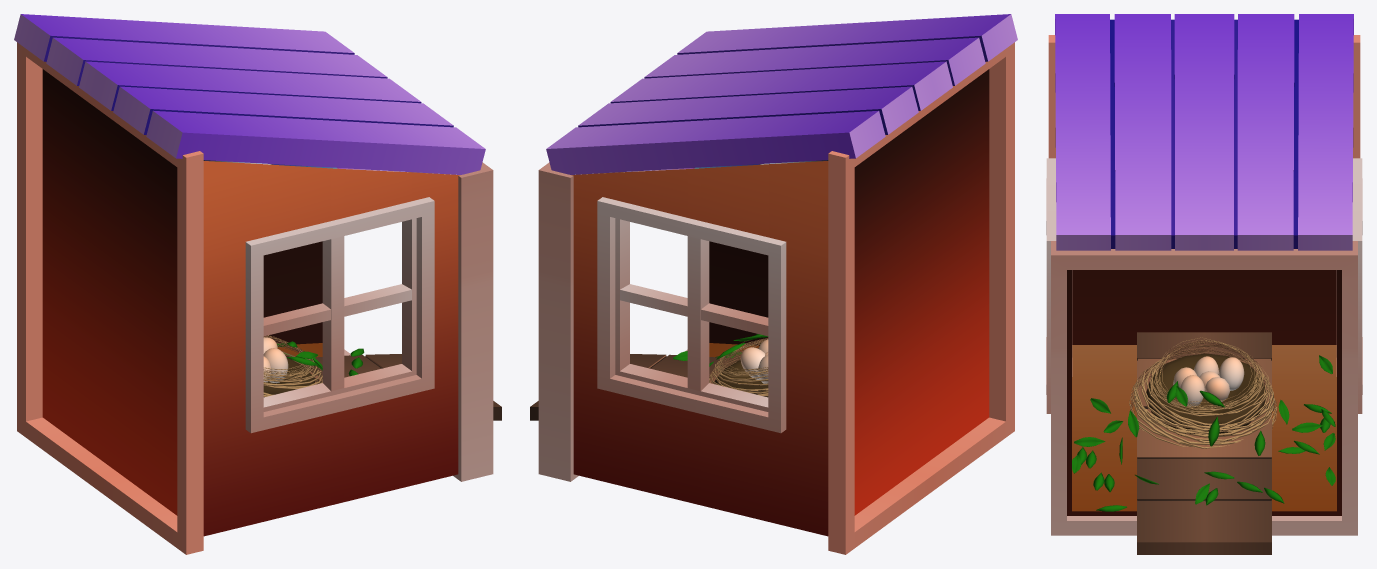
File: Destination.fbx
3 views of the same model, side by side, from view 1: azimuth 30°, elevation 25°; view 2: azimuth 150°, elevation 25°; view 3: azimuth 270°, elevation 25° (orthographic). The views are drawn at different scales.
Parts seen in each view (by area): view 1: FinshPoint, Nest; view 2: FinshPoint, Nest; view 3: FinshPoint, Nest.
Boxes of the visible parts, x1,y1,x2,y2 form: FinshPoint: (14, 14, 501, 554); Nest: (263, 335, 364, 397); FinshPoint: (530, 14, 1017, 554); Nest: (673, 334, 768, 397); FinshPoint: (1046, 14, 1362, 554); Nest: (1072, 337, 1335, 511).
Size of the model in its own units: 6.87 by 7.44 by 5.52.
Materials: 1 (1 with a texture image).
